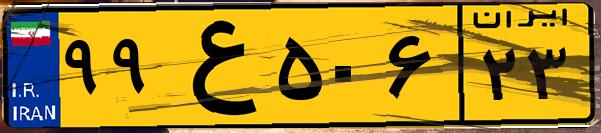0: (330, 28, 385, 110)
2: (475, 38, 525, 113)
3: (525, 38, 570, 115)
5: (270, 28, 330, 110)
6: (385, 28, 445, 110)
9: (57, 26, 110, 100), (110, 28, 158, 98)
ع: (158, 12, 270, 120)
